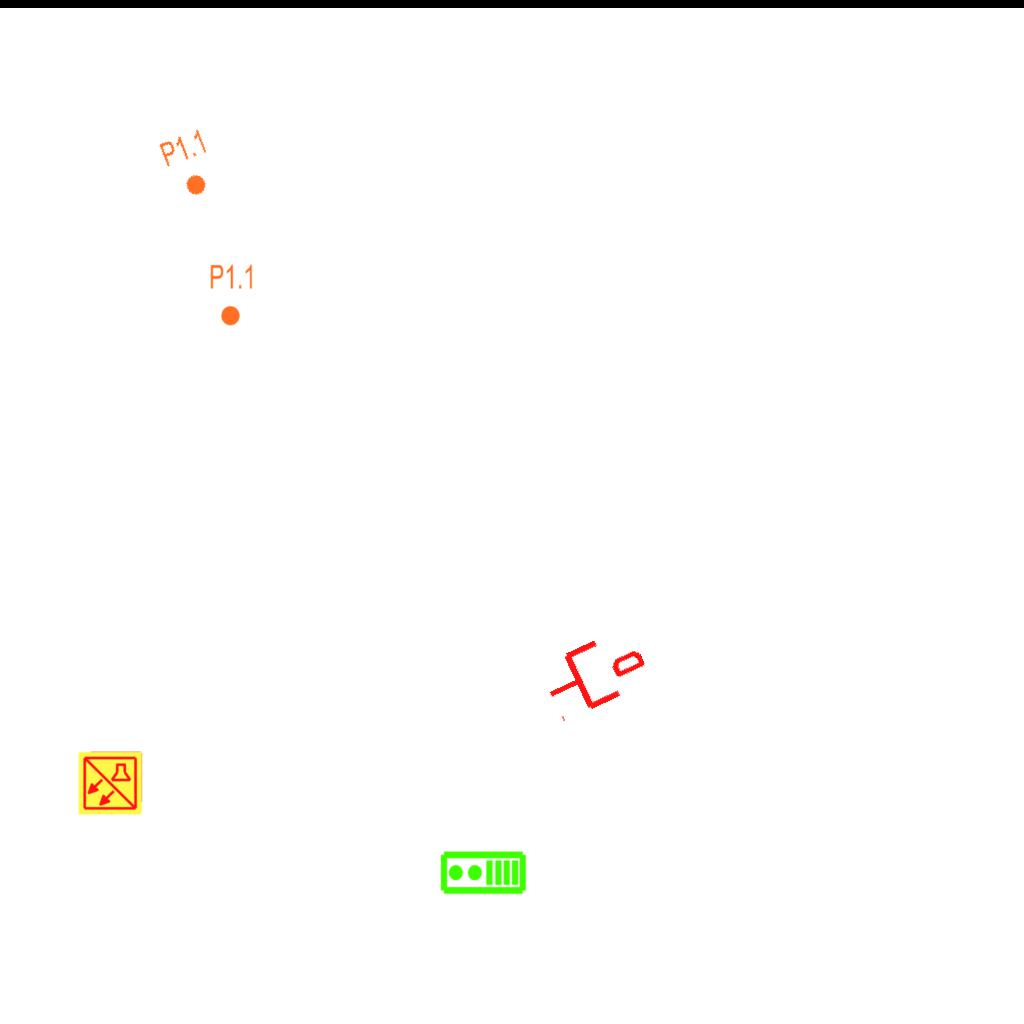Datenanschluss_einfach: (534, 621, 655, 727)
Downlight_LED_Einbauleuchten_Flur: (157, 126, 223, 204), (209, 263, 255, 327)
Gegensprechanlage_mit_Video: (439, 850, 527, 897)
OKW_Multisensormelder_(Kombination_optischer_Rauch-Kahlenmonoxid_Waerme-Melder): (77, 750, 143, 816)
